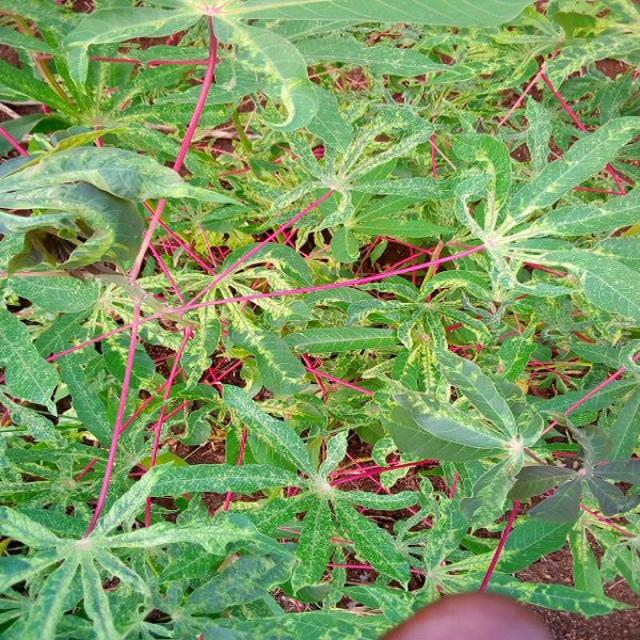cassava leaf: (1, 1, 638, 637), (376, 346, 548, 530), (0, 142, 188, 273)
